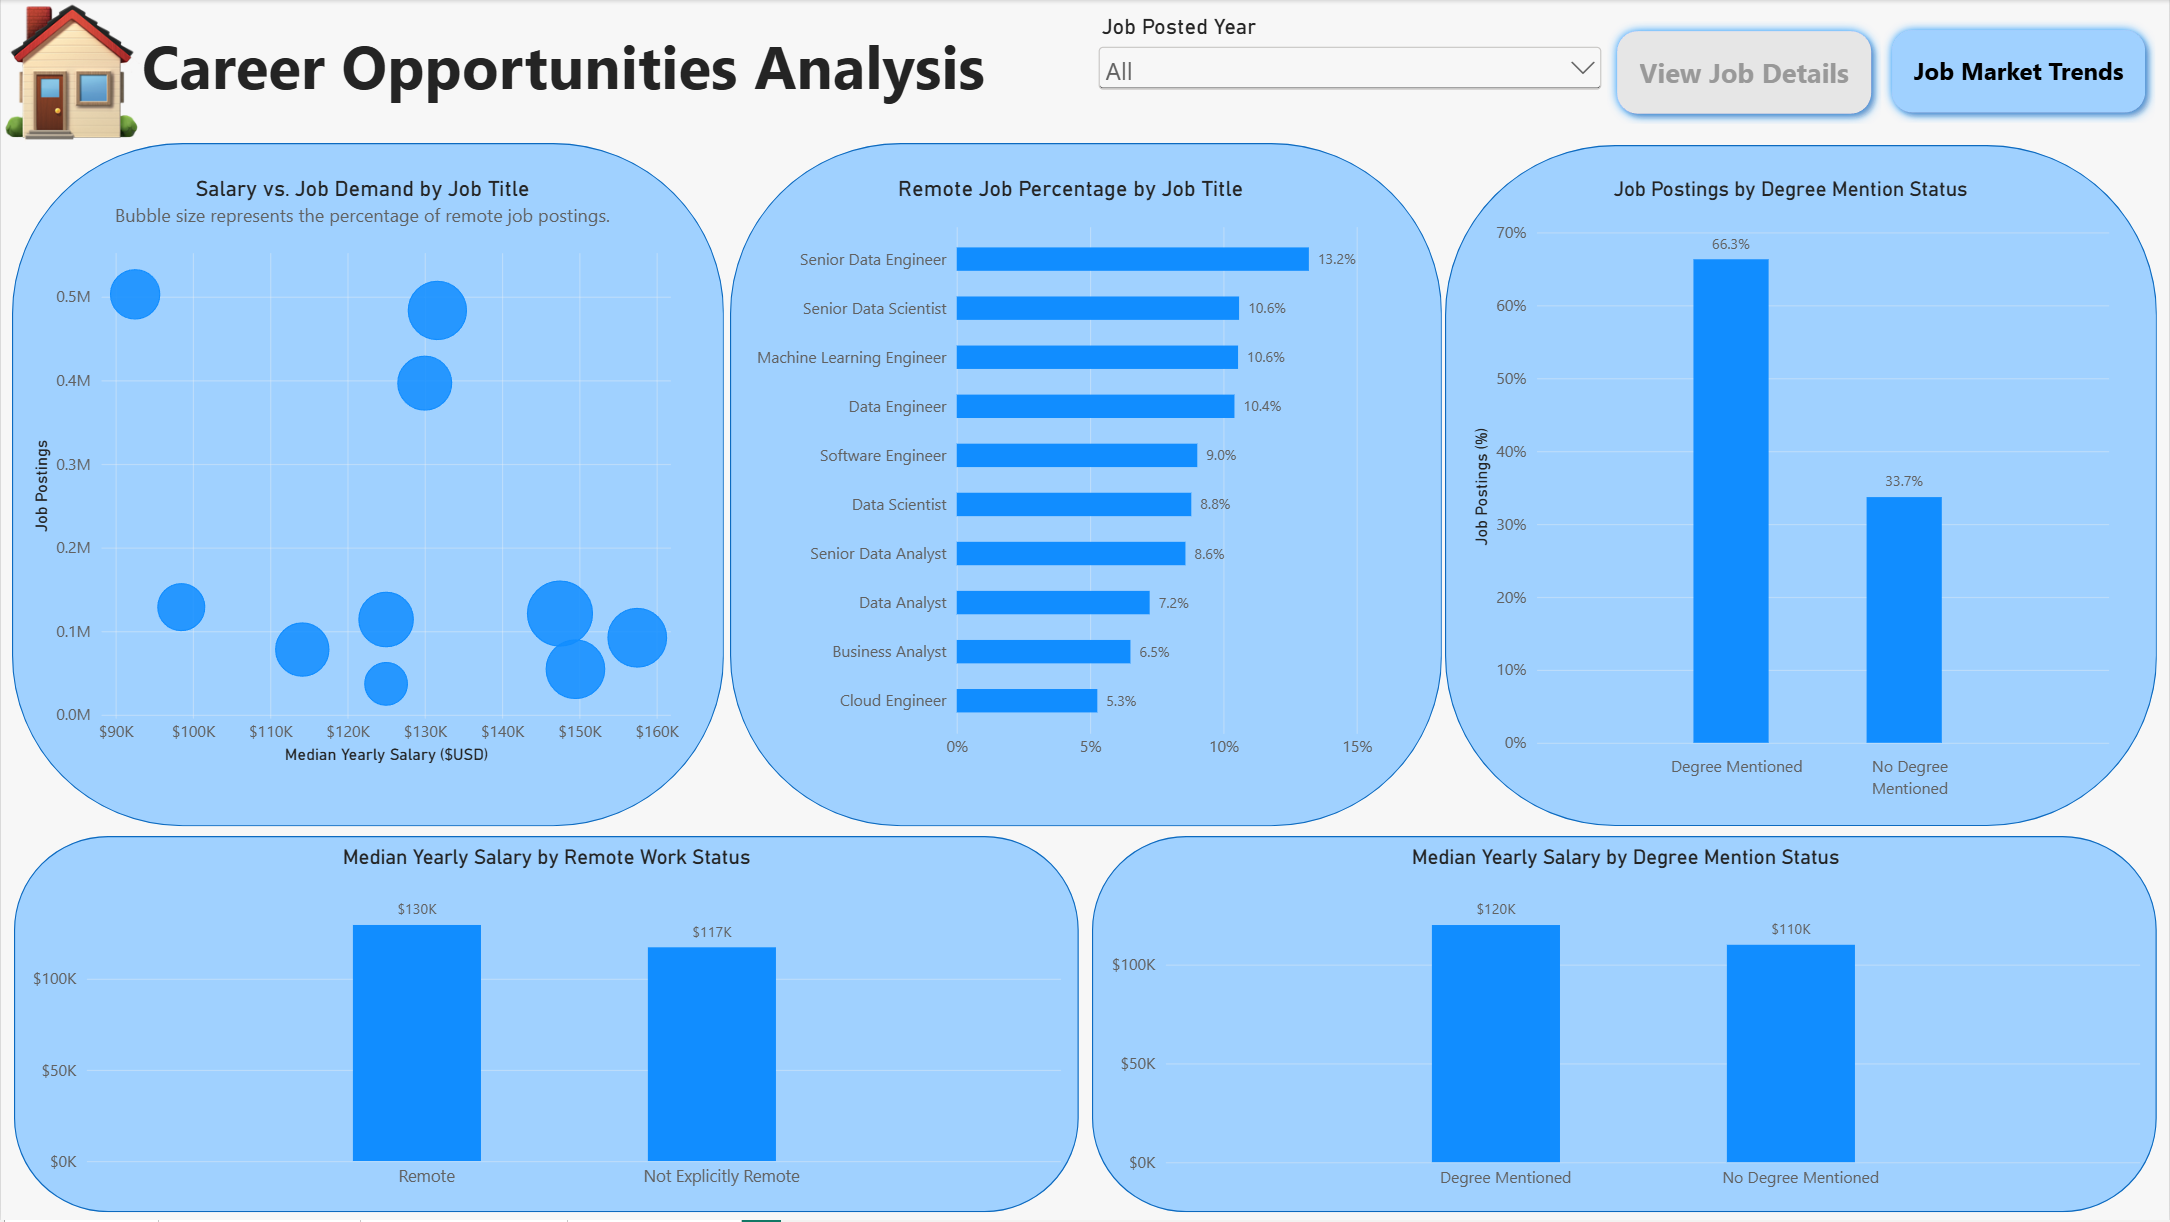

This screenshot's page, from the dashboard's own definition file:
{"tool":"powerbi","page":{"name":"Career Opportunities Analysis","canvas":[1920,1080],"ordinal":1},"visuals":[{"type":"group","id":"g1","title":"Background","box":[10.1,126.8,1898.9,946.7],"z":0},{"type":"shape","box":[10.1,126.8,630.3,604.9],"z":0,"group":"g1"},{"type":"scatterChart","title":"Salary vs. Job Demand by Job Title","fields":{"Category":["job_postings_flat.job_title_short"],"Size":["job_postings_flat.Remote Job %"],"X":["Median(job_postings_flat.salary_year_avg)"],"Y":["job_postings_flat.Job Count"]},"box":[11.9,141.3,617,550],"z":1000},{"type":"shape","box":[12.1,740.4,942.5,333],"z":1000,"group":"g1"},{"type":"shape","box":[645.4,126.8,630.3,604.9],"z":2000,"group":"g1"},{"type":"barChart","title":"Remote Job Percentage by Job Title","fields":{"Category":["job_postings_flat.job_title_short"],"Y":["job_postings_flat.Remote Job %"]},"box":[640.3,141.3,613.6,550.4],"z":2000},{"type":"shape","box":[1278.6,128.7,630.3,603],"z":3000,"group":"g1"},{"type":"columnChart","title":"Job Postings by Degree Mention Status","fields":{"Category":["job_postings_flat.Degree Mention Status"],"Y":["job_postings_flat.Job Count"]},"box":[1286.6,142.3,595.9,583],"z":3000},{"type":"columnChart","title":"Median Yearly Salary by Remote Work Status","fields":{"Category":["job_postings_flat.Remote Work Status"],"Y":["Median(job_postings_flat.salary_year_avg)"]},"box":[11.9,734.2,942.7,338.9],"z":4000},{"type":"shape","box":[966.4,740.4,942.5,333],"z":4000,"group":"g1"},{"type":"columnChart","title":"Median Yearly Salary by Degree Mention Status","fields":{"Category":["job_postings_flat.Degree Mention Status"],"Y":["Median(job_postings_flat.salary_year_avg)"]},"box":[966.4,734.2,942.7,338.9],"z":5000},{"type":"image","box":[0,0,125,126],"z":6000},{"type":"slicer","fields":{"Values":["job_postings_flat.job_title_short"]},"box":[966.7,12,455,110],"z":7000},{"type":"textbox","box":[125,20,778.4,87.4],"z":8000},{"type":"actionButton","box":[1422.1,18.2,242.9,91.1],"z":9000},{"type":"actionButton","box":[1665,18,242,91],"z":10000}]}

Visuals, with their boxes in screenshot pixels (x1, y1, x2, y2), scaled from the page's 1920x1080 canvas onto the 2170x1222 screenshot:
"Background" group: [left=11, top=143, right=2158, bottom=1215]
shape: [left=11, top=143, right=724, bottom=828]
"Salary vs. Job Demand by Job Title" scatterChart: [left=13, top=160, right=711, bottom=782]
shape: [left=14, top=838, right=1079, bottom=1215]
shape: [left=729, top=143, right=1442, bottom=828]
"Remote Job Percentage by Job Title" barChart: [left=724, top=160, right=1417, bottom=783]
shape: [left=1445, top=146, right=2157, bottom=828]
"Job Postings by Degree Mention Status" columnChart: [left=1454, top=161, right=2128, bottom=821]
"Median Yearly Salary by Remote Work Status" columnChart: [left=13, top=831, right=1079, bottom=1214]
shape: [left=1092, top=838, right=2157, bottom=1215]
"Median Yearly Salary by Degree Mention Status" columnChart: [left=1092, top=831, right=2158, bottom=1214]
image: [left=0, top=0, right=141, bottom=143]
slicer - job_postings_flat.job_title_short: [left=1093, top=14, right=1607, bottom=138]
textbox: [left=141, top=23, right=1021, bottom=122]
actionButton: [left=1607, top=21, right=1882, bottom=124]
actionButton: [left=1882, top=20, right=2155, bottom=123]
